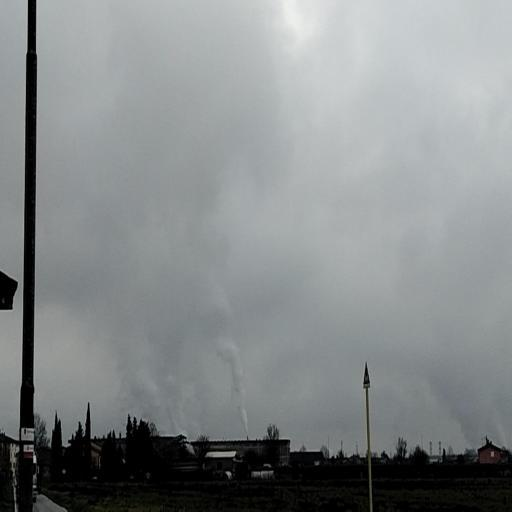leakage: (59, 188, 260, 461)
